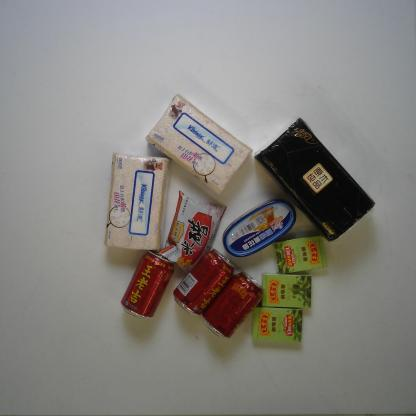Candy: (271, 231, 328, 276), (250, 306, 305, 344), (260, 271, 314, 309)
Canned Food: (221, 196, 298, 260)
Drink: (198, 269, 266, 342), (172, 247, 236, 318), (118, 247, 176, 321)
Seasoner: (156, 188, 227, 274)
Tissue: (250, 115, 378, 244), (145, 91, 254, 204), (100, 150, 171, 253)
